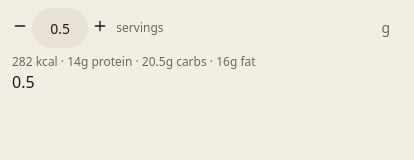
ServingAmount › steps back down and stops at an eighth rather than at nothing
What coordinates should you click on to do the following:
click the button named "Decrease"
I would click on:
 (20, 26)
Its box is [12,18,28,34].
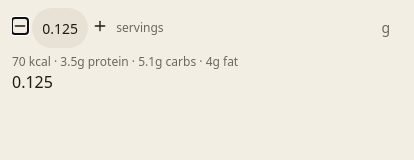
Expected: the text with test id "amount" reads "0.125", [12,71,53,93]
